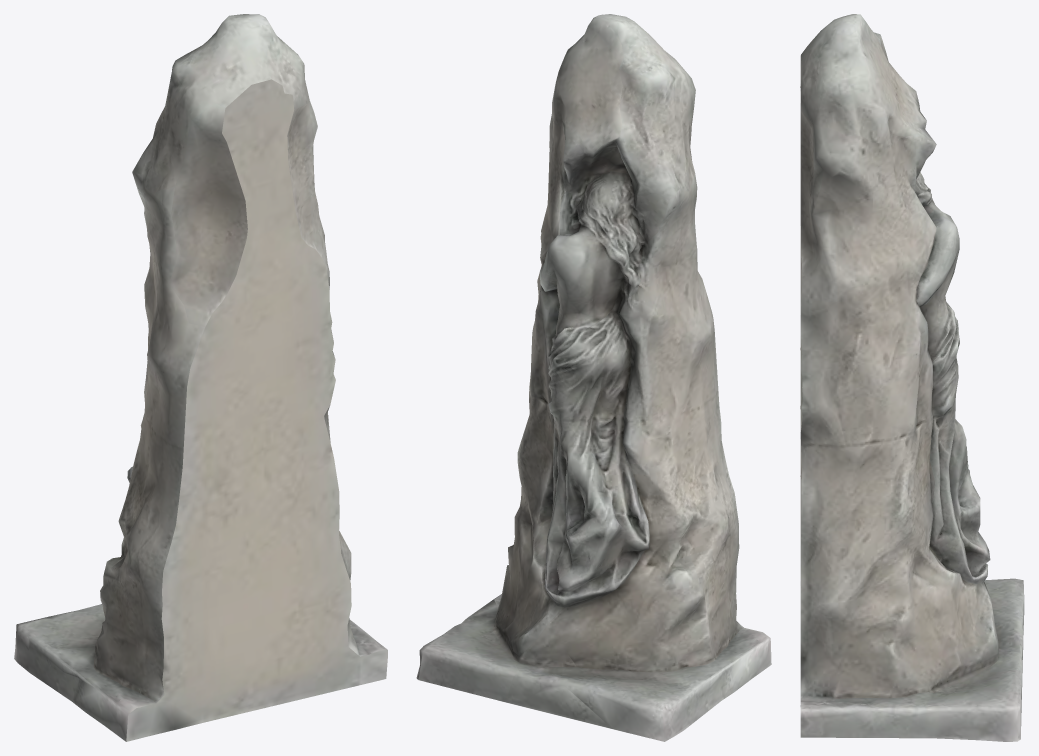
The model's file is woman_statue-transformed.glb.
The picture shows the model from 3 angles, left to right: view 1: azimuth 30°, elevation 25°; view 2: azimuth 150°, elevation 25°; view 3: azimuth 270°, elevation 25°; orthographic projection. The views are drawn at different scales.
Visible parts, largest first — view 1: WomanRockLow_WorldGridMaterial_0; view 2: WomanRockLow_WorldGridMaterial_0; view 3: WomanRockLow_WorldGridMaterial_0.
Boxes of the visible parts, x1,y1,x2,y2 form: WomanRockLow_WorldGridMaterial_0: (14,14,387,741); WomanRockLow_WorldGridMaterial_0: (416,14,771,741); WomanRockLow_WorldGridMaterial_0: (800,14,1024,741).
Size of the model in its own units: 13.92 by 33.03 by 10.12.
1 material, 1 textured.
